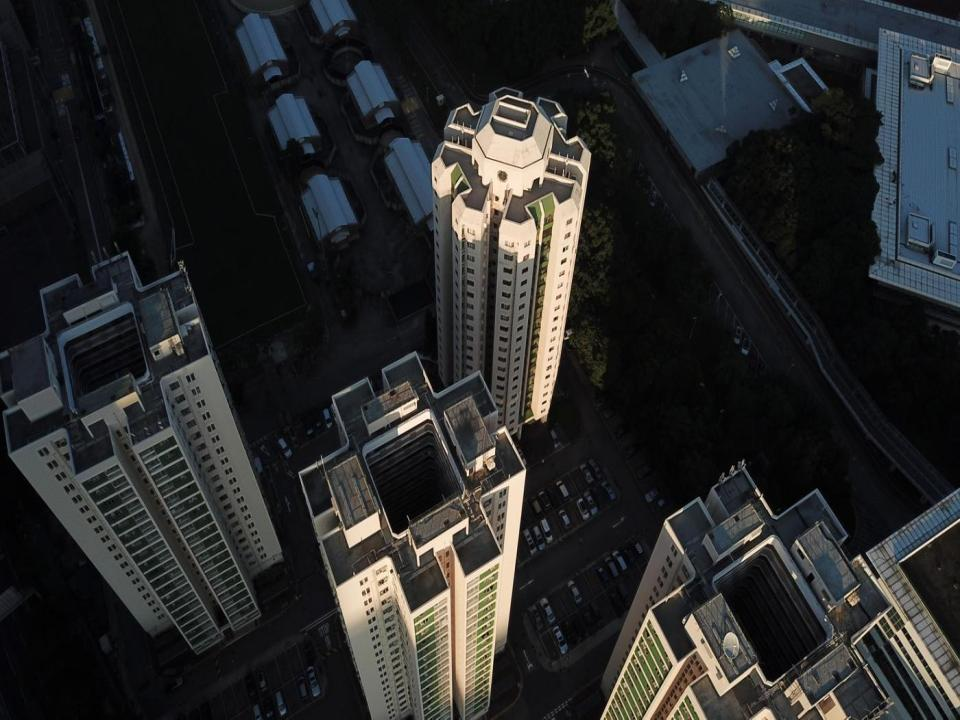car: (544, 633, 561, 661), (554, 624, 569, 653), (298, 679, 312, 707), (540, 598, 556, 622), (606, 554, 622, 578), (308, 667, 321, 696), (574, 616, 589, 640), (613, 548, 628, 571), (568, 580, 581, 606), (584, 491, 597, 516), (275, 690, 287, 716), (531, 605, 544, 629), (514, 446, 527, 470), (646, 485, 662, 504), (658, 488, 674, 507), (597, 564, 610, 587), (262, 698, 276, 719), (581, 463, 593, 486), (258, 667, 268, 694), (602, 482, 616, 500), (590, 462, 604, 480), (331, 404, 340, 427), (635, 542, 645, 560), (734, 326, 742, 345), (742, 338, 750, 356), (306, 423, 314, 440), (316, 418, 324, 435)
van: (524, 529, 537, 556), (541, 519, 554, 545), (533, 524, 545, 551), (577, 497, 590, 521), (279, 438, 292, 458), (558, 480, 571, 500), (559, 509, 571, 528), (550, 428, 561, 448), (539, 491, 550, 508), (532, 496, 541, 514), (324, 408, 332, 428), (254, 705, 262, 719)
